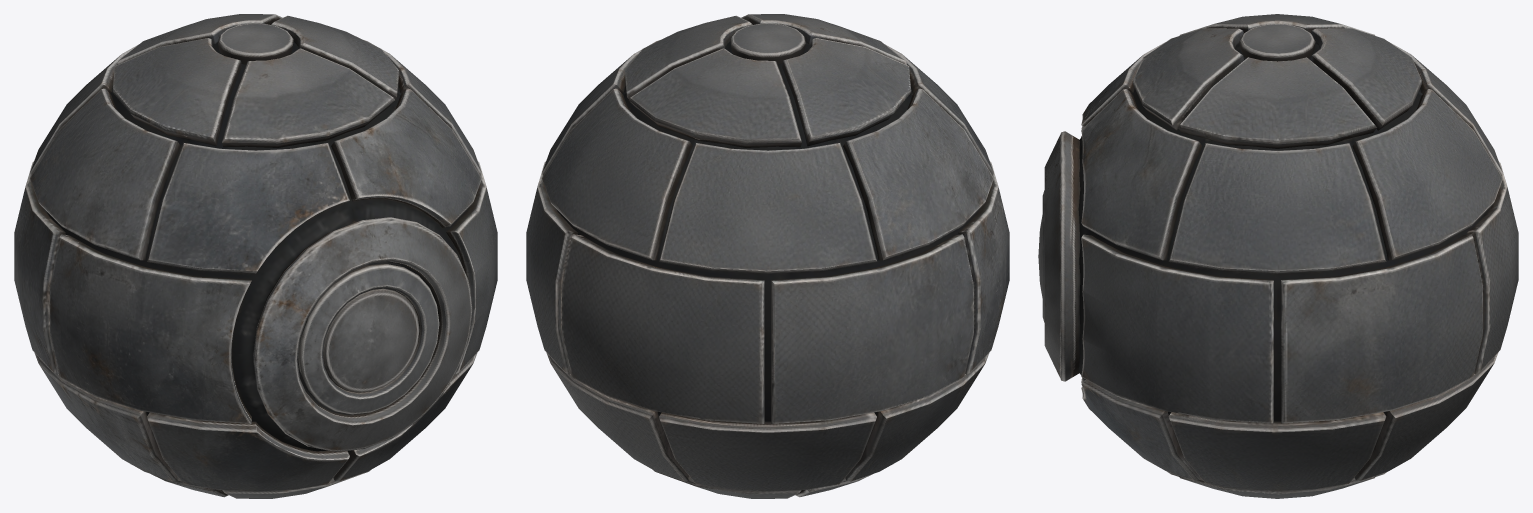
The model's file is esfera-mecanica-v3-tex.glb.
The picture shows the model from 3 angles, left to right: view 1: azimuth 30°, elevation 25°; view 2: azimuth 150°, elevation 25°; view 3: azimuth 270°, elevation 25°; orthographic projection.
Visible parts, largest first — view 1: Plates_Band_Upper, Plates_Band_Equator, Plates_Cap_Upper, Core_Bezel_Outer, Sphere_Core, Core_Rim_Inner, Core_Lens, Hub_Pole_Upper; view 2: Plates_Band_Upper, Plates_Band_Equator, Plates_Cap_Upper, Sphere_Core, Hub_Pole_Upper; view 3: Plates_Band_Upper, Plates_Band_Equator, Plates_Cap_Upper, Core_Bezel_Outer, Sphere_Core, Hub_Pole_Upper.
Part boxes in pixels (left/top/right/bottom): Plates_Band_Upper: left=30, top=40, right=481, bottom=491; Plates_Band_Equator: left=14, top=161, right=497, bottom=423; Plates_Cap_Upper: left=112, top=14, right=399, bottom=498; Core_Bezel_Outer: left=253, top=217, right=472, bottom=451; Sphere_Core: left=46, top=42, right=466, bottom=451; Core_Rim_Inner: left=298, top=263, right=439, bottom=414; Core_Lens: left=323, top=288, right=419, bottom=392; Hub_Pole_Upper: left=218, top=23, right=293, bottom=64; Plates_Band_Upper: left=542, top=40, right=993, bottom=491; Plates_Band_Equator: left=526, top=161, right=1009, bottom=423; Plates_Cap_Upper: left=624, top=14, right=911, bottom=498; Sphere_Core: left=557, top=42, right=977, bottom=421; Hub_Pole_Upper: left=730, top=23, right=805, bottom=64; Plates_Band_Upper: left=1081, top=42, right=1502, bottom=491; Plates_Band_Equator: left=1081, top=136, right=1518, bottom=423; Plates_Cap_Upper: left=1132, top=14, right=1422, bottom=498; Core_Bezel_Outer: left=1044, top=131, right=1080, bottom=381; Sphere_Core: left=1078, top=43, right=1486, bottom=421; Hub_Pole_Upper: left=1239, top=24, right=1315, bottom=61.
Bounding box in the file's own units: 2.09 × 2.1 × 2.08.
3 materials, 3 textured.
